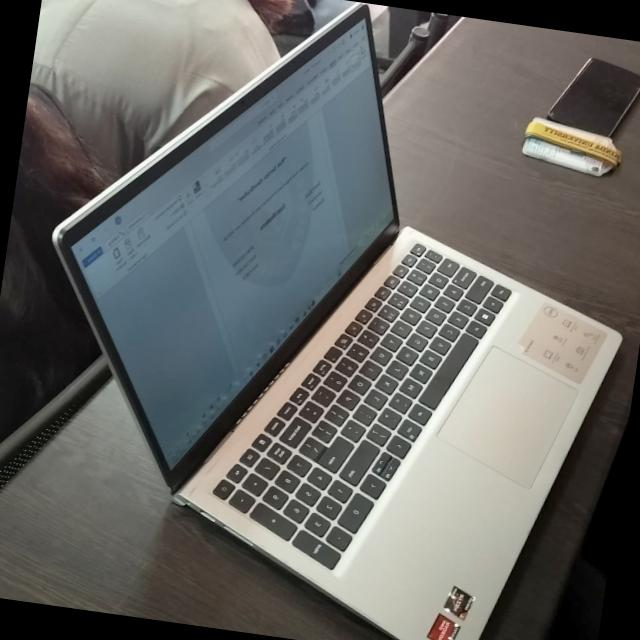laptop: (0, 98, 638, 640)
